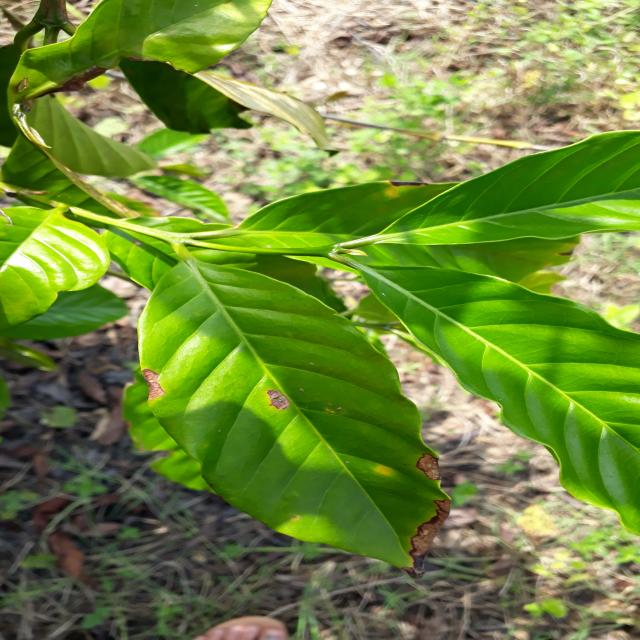Enfermedad-Roya: (123, 260, 449, 571)
